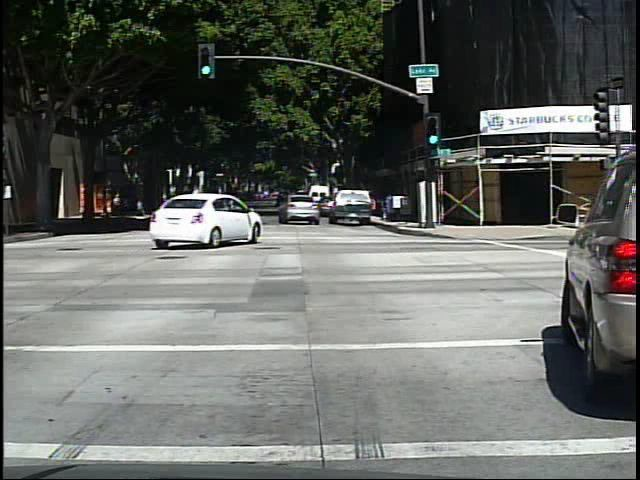person: (109, 189, 126, 221)
